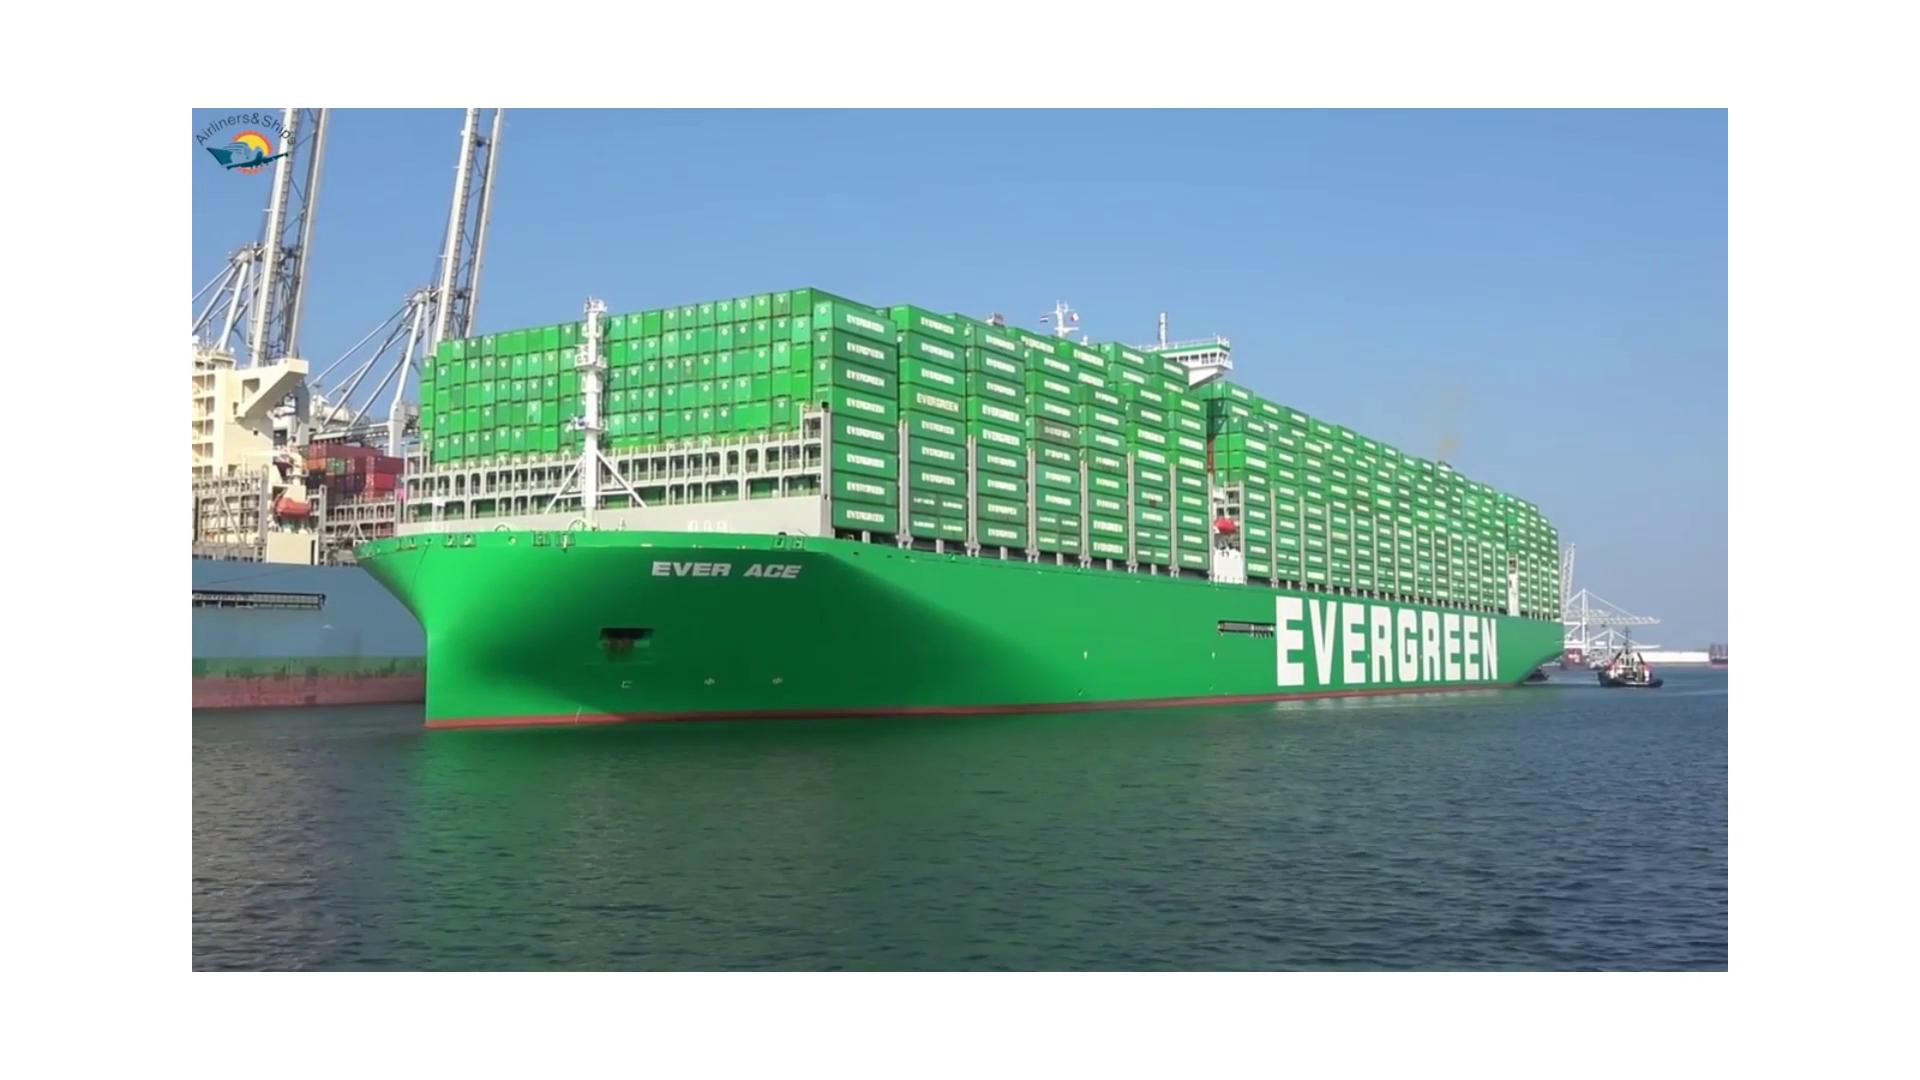OCR: (1224, 559, 1527, 729)
